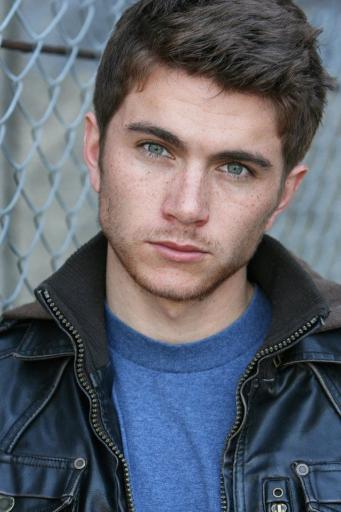left_eye: (216, 161, 259, 184)
left_lip_corner: (204, 247, 216, 262)
right_eye: (134, 139, 176, 163)
right_lip_corner: (143, 238, 159, 256)
